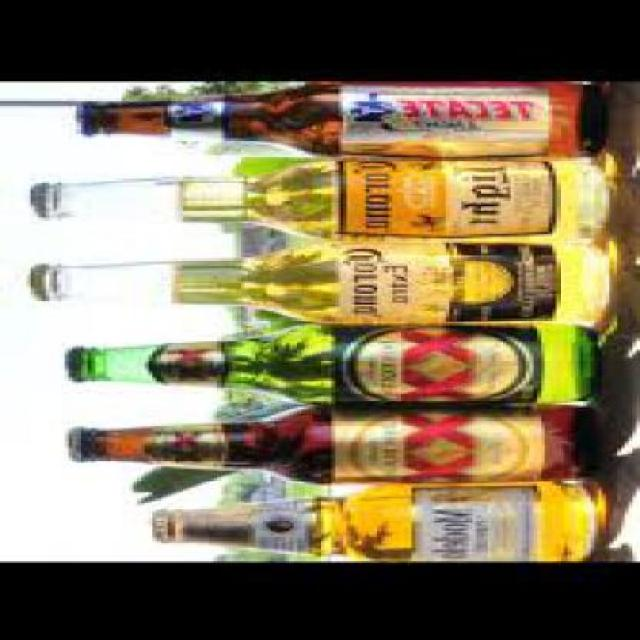GLASS: (45, 154, 602, 241), (45, 238, 602, 324), (76, 321, 598, 401), (95, 76, 602, 156), (88, 401, 586, 481), (168, 480, 602, 557)
METAL: (23, 258, 46, 298), (62, 340, 80, 378), (65, 424, 84, 458), (23, 177, 39, 211), (72, 98, 88, 130), (148, 506, 164, 536)
